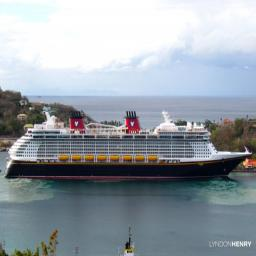cruises: (4, 104, 255, 186)
